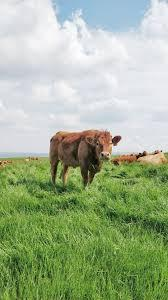cow: (49, 130, 123, 192)
